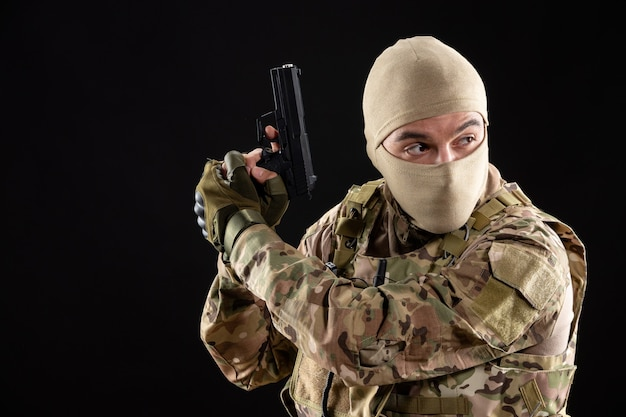gun: (249, 63, 316, 197)
